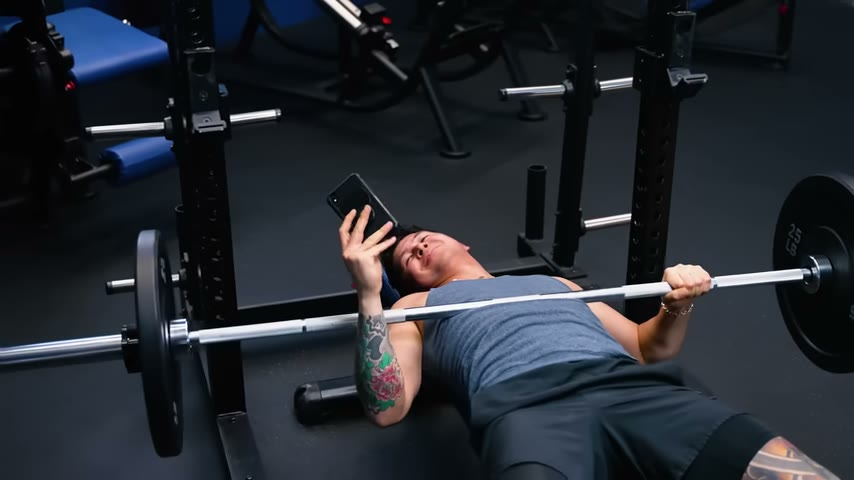barbell_plate_side: (738, 34, 854, 474)
